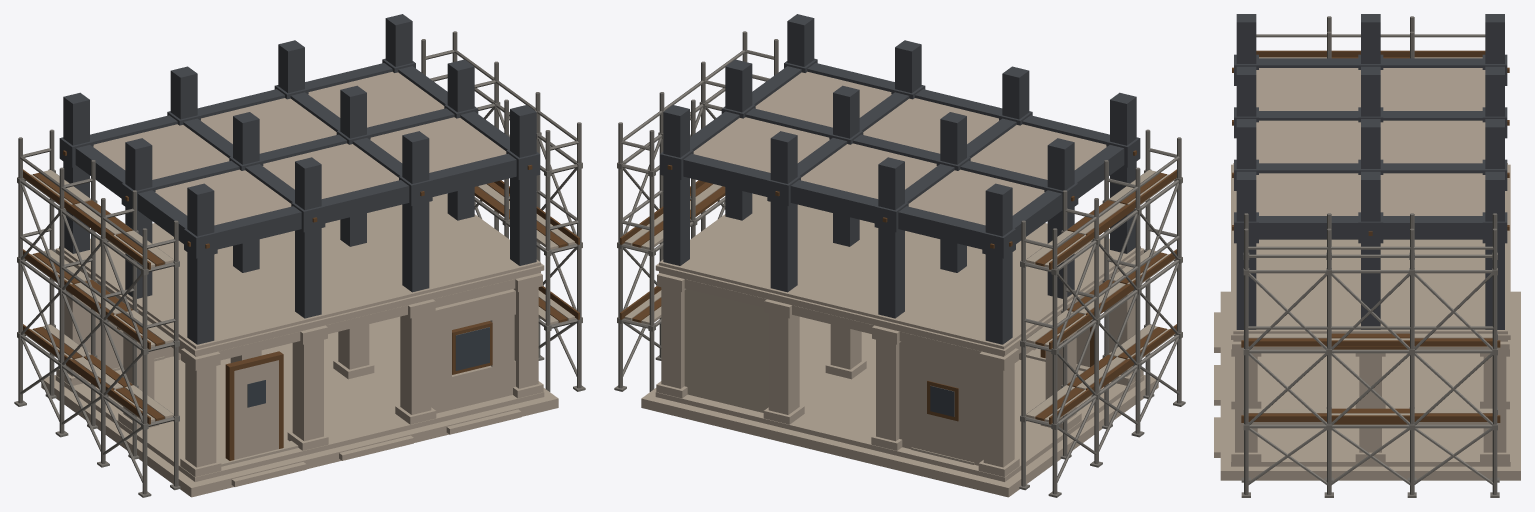
File: industrial building.fbx
3 views of the same model, side by side, from view 1: azimuth 30°, elevation 25°; view 2: azimuth 150°, elevation 25°; view 3: azimuth 270°, elevation 25° (orthographic).
Visible parts, largest first — view 1: Industrial_Building; view 2: Industrial_Building; view 3: Industrial_Building.
Boxes of the visible parts, left/top/right/bottom form: Industrial_Building: left=14, top=14, right=585, bottom=497; Industrial_Building: left=614, top=14, right=1185, bottom=497; Industrial_Building: left=1214, top=14, right=1520, bottom=497.
Bounding box in the file's own units: 988 × 626 × 593.
